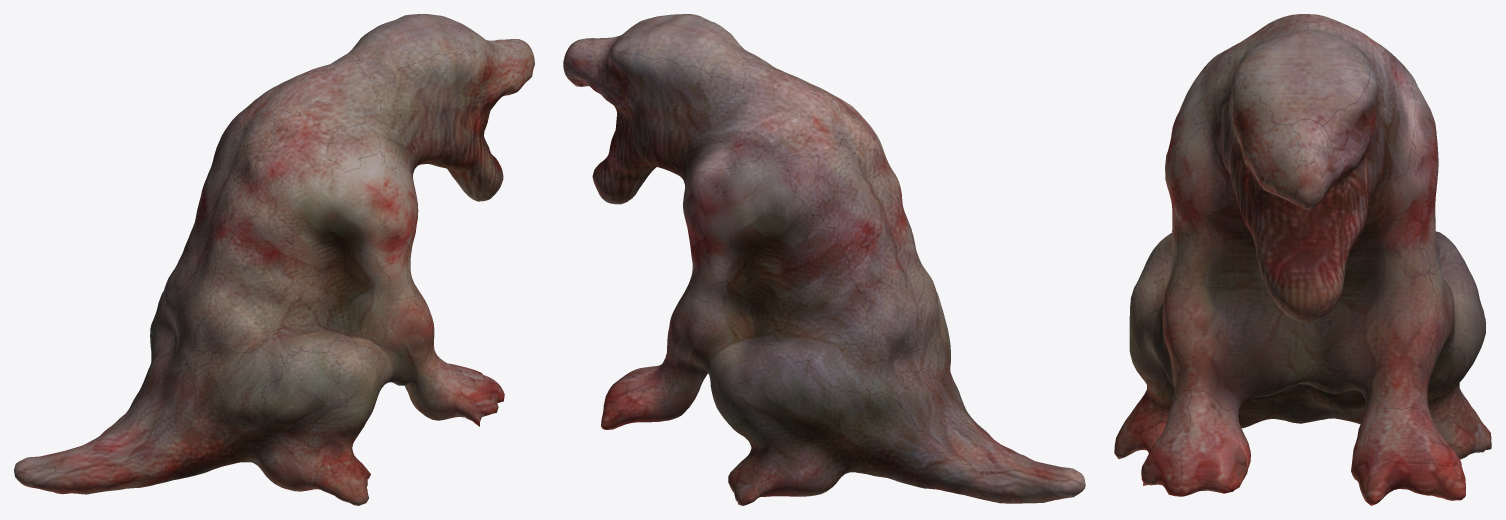
File: zombie_model.glb
3 views of the same model, side by side, from view 1: azimuth 30°, elevation 25°; view 2: azimuth 150°, elevation 25°; view 3: azimuth 270°, elevation 25° (orthographic). The views are drawn at different scales.
Parts seen in each view (by area): view 1: Mesh1; view 2: Mesh1; view 3: Mesh1.
Boxes of the visible parts, x1,y1,x2,y2 form: Mesh1: (14,14,534,505); Mesh1: (563,14,1085,505); Mesh1: (1114,14,1491,505).
Bounding box in the file's own units: 1.2 × 0.8686 × 0.6081.
Materials: 1 (1 with a texture image).
